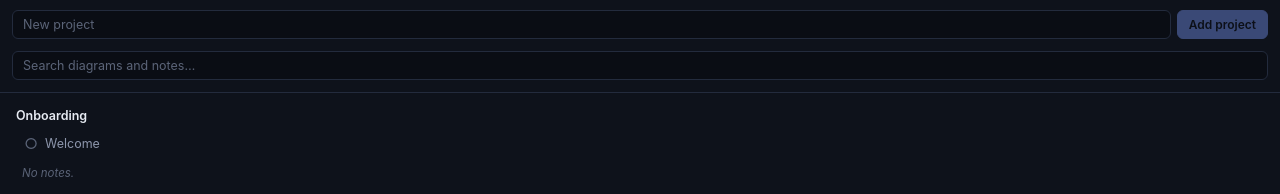
Test: Explorer › shows a no-match hint when nothing matches the query
This screenshot has width=1280, height=194.
Type "does-not-exist" into the search field with test id "diagram-search-input".
click(640, 66); type("does-not-exist")  # box [12, 51, 1268, 80]
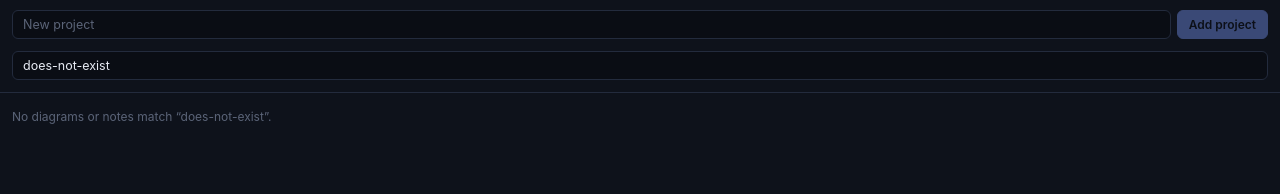
Expected: the text with test id "explorer-empty" shows "No diagrams or notes match", [12, 109, 180, 124]
